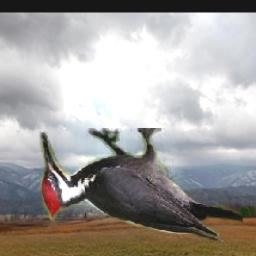Woodpecker: (39, 129, 243, 242)
